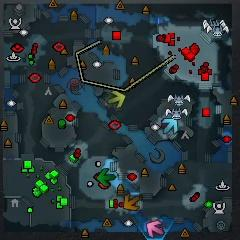x1: (147, 220, 164, 237)
x2: (109, 90, 126, 109)
x3: (162, 118, 177, 135)
x4: (97, 168, 115, 187)
x5: (123, 194, 140, 211)
